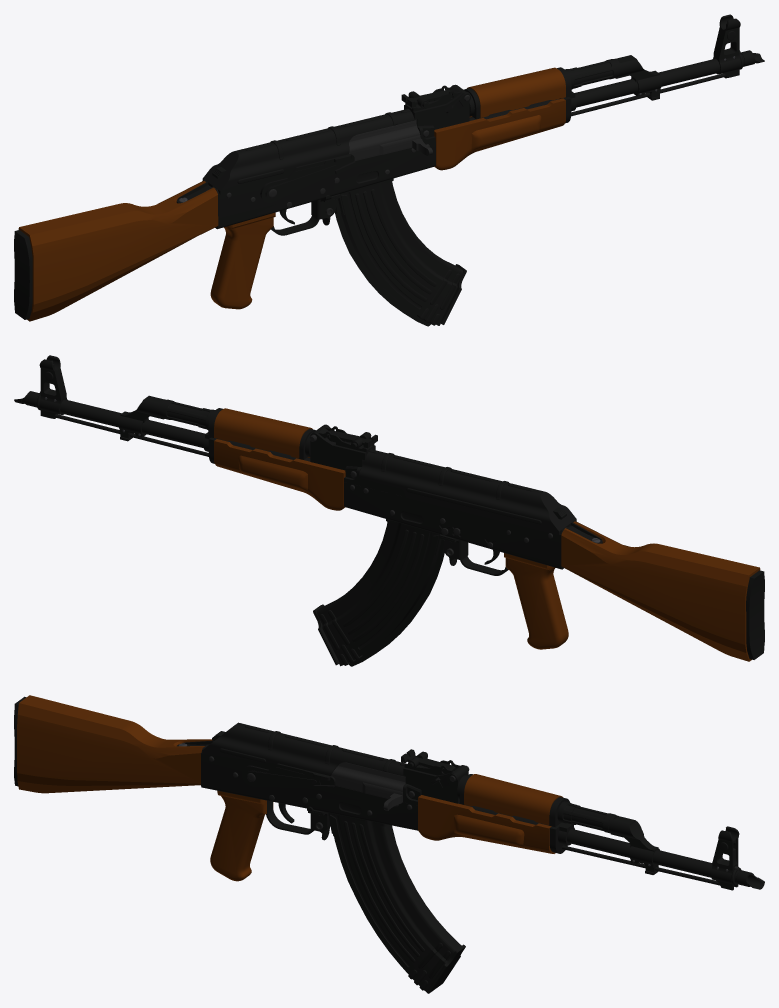
File: AKM.gltf
3 renders of one model, top to bottom at view 1: azimuth 30°, elevation 25°; view 2: azimuth 150°, elevation 25°; view 3: azimuth 330°, elevation 25°, orthographic.
Parts seen in each view (by area): view 1: AKM, Stell 7.62mm 30-Round Magazines.blend.001, Bolt, Fire Mode Selector; view 2: AKM, Stell 7.62mm 30-Round Magazines.blend.001; view 3: AKM, Stell 7.62mm 30-Round Magazines.blend.001, Bolt, Fire Mode Selector.
Boxes of the visible parts, x1,y1,x2,y2 form: AKM: [14, 14, 764, 321]; Stell 7.62mm 30-Round Magazines.blend.001: [335, 178, 466, 326]; Bolt: [349, 120, 432, 160]; Fire Mode Selector: [260, 154, 355, 202]; AKM: [14, 355, 764, 661]; Stell 7.62mm 30-Round Magazines.blend.001: [313, 519, 444, 666]; AKM: [14, 695, 764, 890]; Stell 7.62mm 30-Round Magazines.blend.001: [328, 813, 465, 993]; Bolt: [331, 762, 405, 810]; Fire Mode Selector: [242, 763, 335, 789].
Bounding box in the file's own units: 0.88 × 0.266 × 0.0675.
